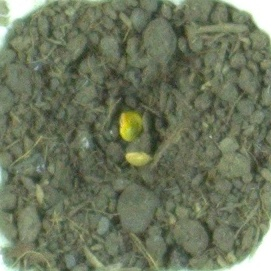pepper seed: (48, 65, 203, 234), (44, 39, 190, 181)
